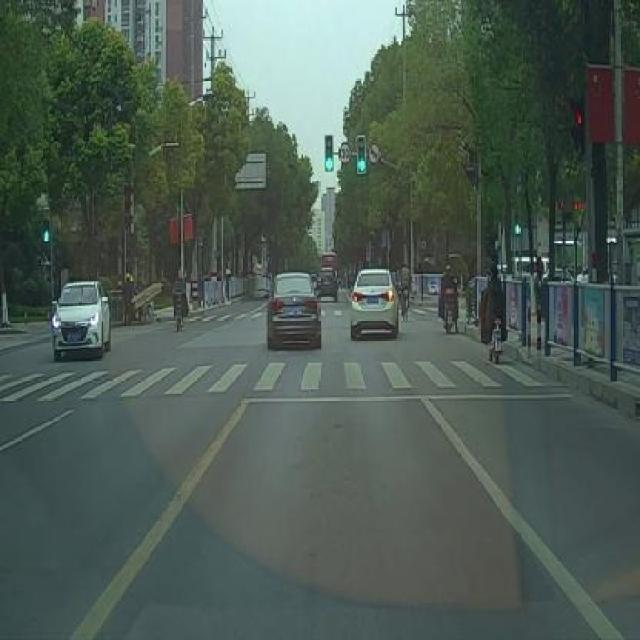forb_speed_over_30: (338, 140, 352, 166)
